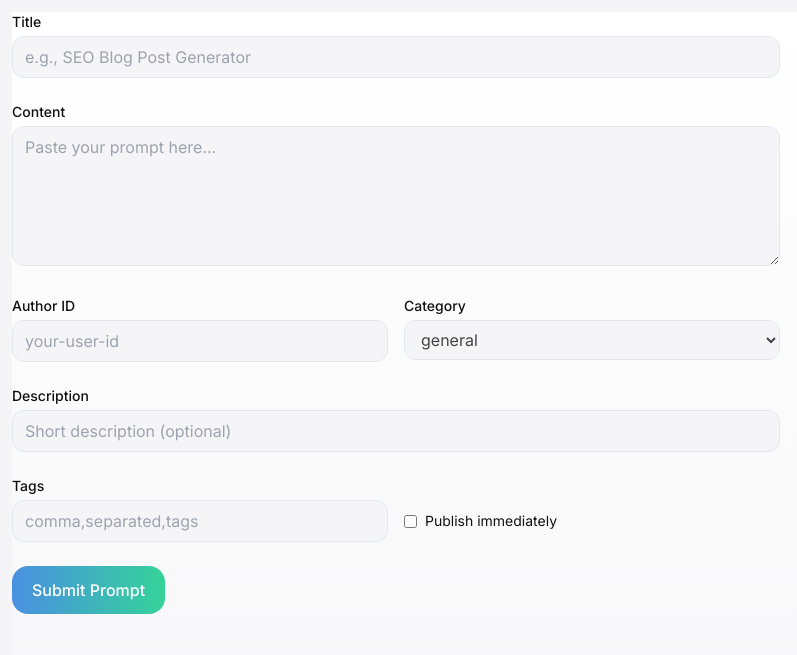
Test: PromptForm › shows server validation errors
# Provide valid client-side values so submission proceeds and server returns validation errors
In the field labelled "Title": (396, 57) [12,36,780,78], type "Valid Title"
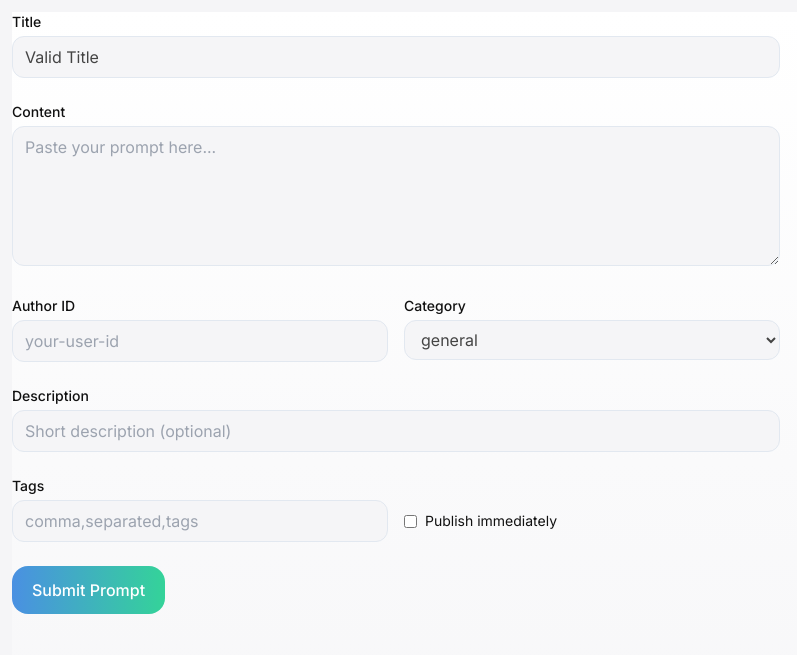
In the text box labelled "Content": (396, 196) [12,126,780,266], type "This content is long enough."
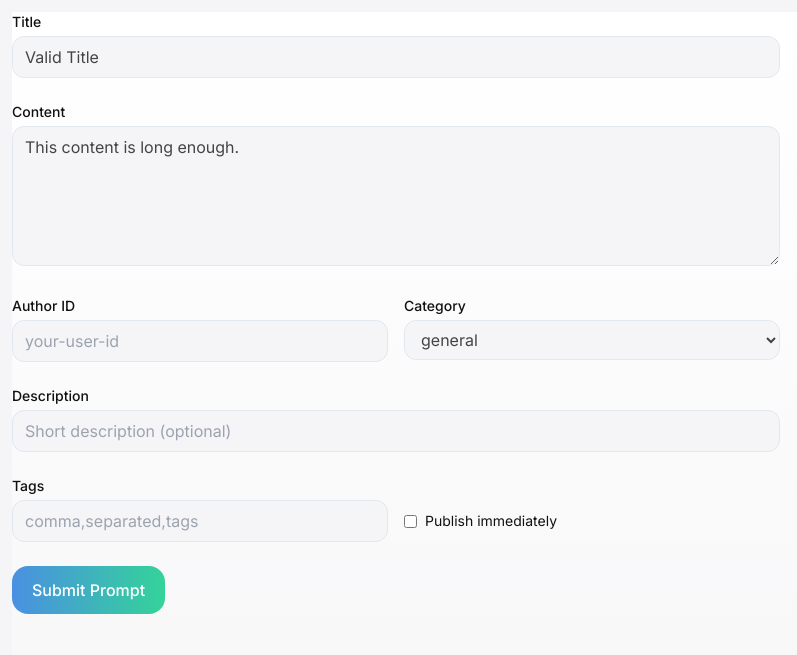
In the field labelled "Author ID": (200, 341) [12,320,388,362], type "user-1"
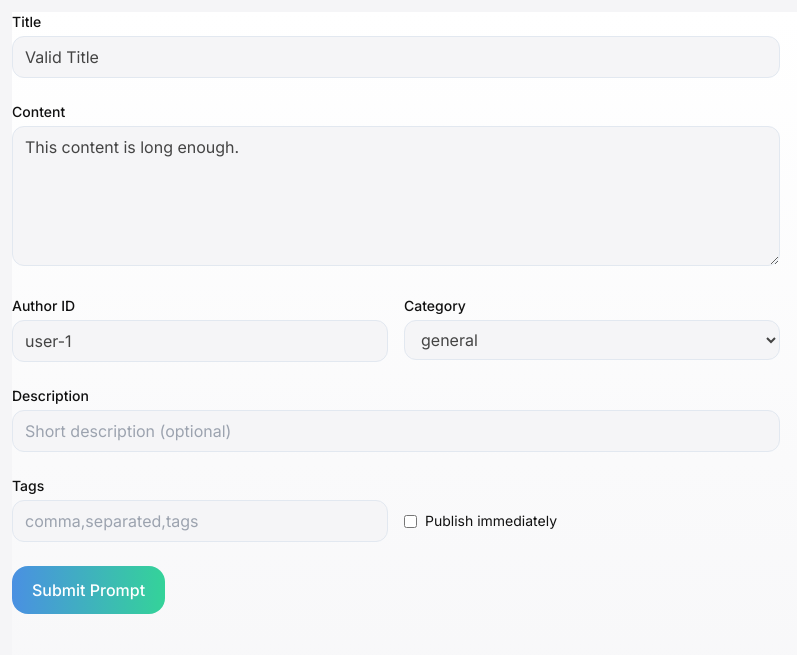
Click the button "Submit Prompt": (89, 590) [12,566,165,614]
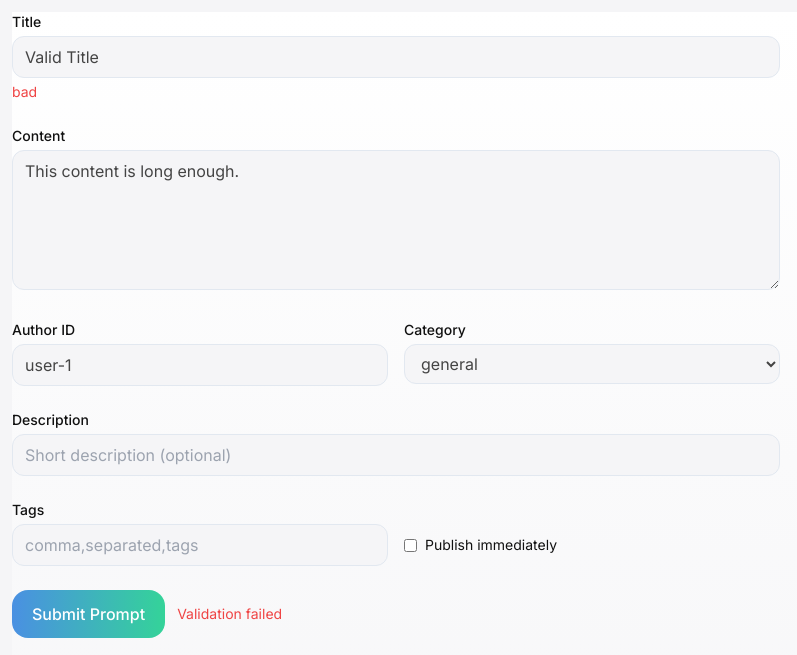
Expected: the text "Validation failed" is shown, [177,604,282,624]
